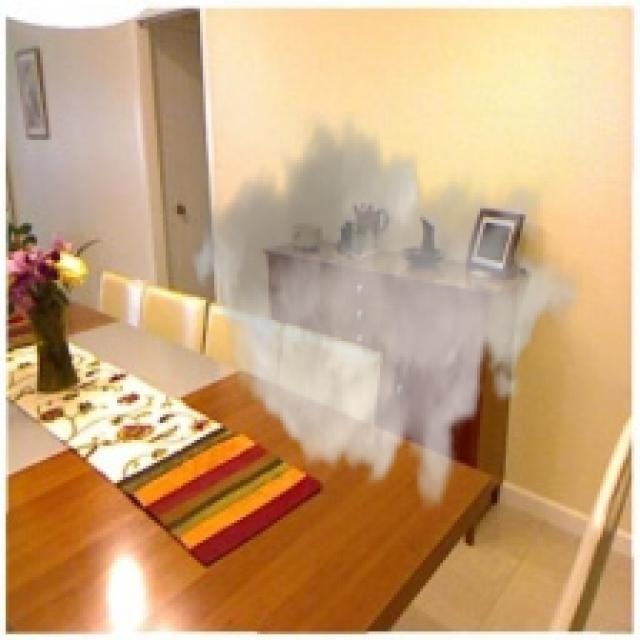smoke: (188, 112, 583, 514)
